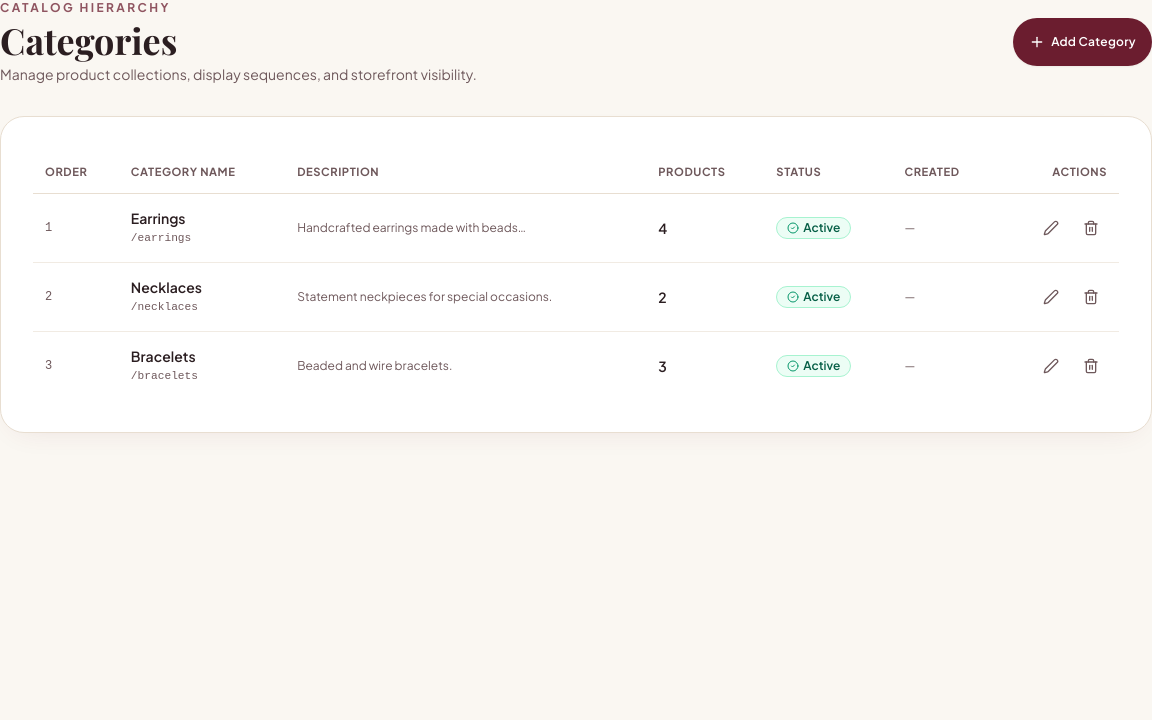
Scenario: AdminCategoriesPage › opens edit modal with prepopulated values and updates category
This screenshot has width=1152, height=720.
Expected: the text "Earrings" is shown, 131,209 -> 186,227
Click the button named "Edit Earrings".
click(1051, 228)  # box 1035,212 -> 1067,244
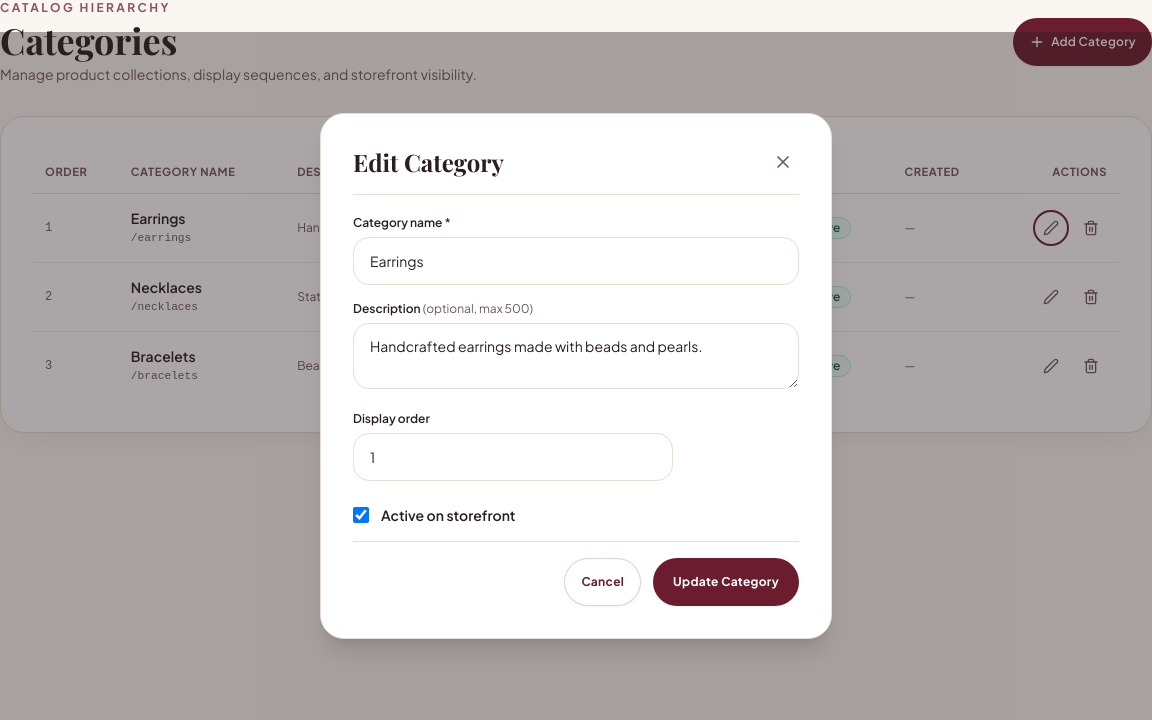
Now the dialog is shown, box 320,113 -> 832,639
Now the heading "Edit Category" is shown, box 353,146 -> 504,178
Now the field labelled "Category name *" holds "Earrings"
Replace the text in the field labelled "Category name *" with "Artisan Earrings" at [576, 261], box 353,237 -> 799,285
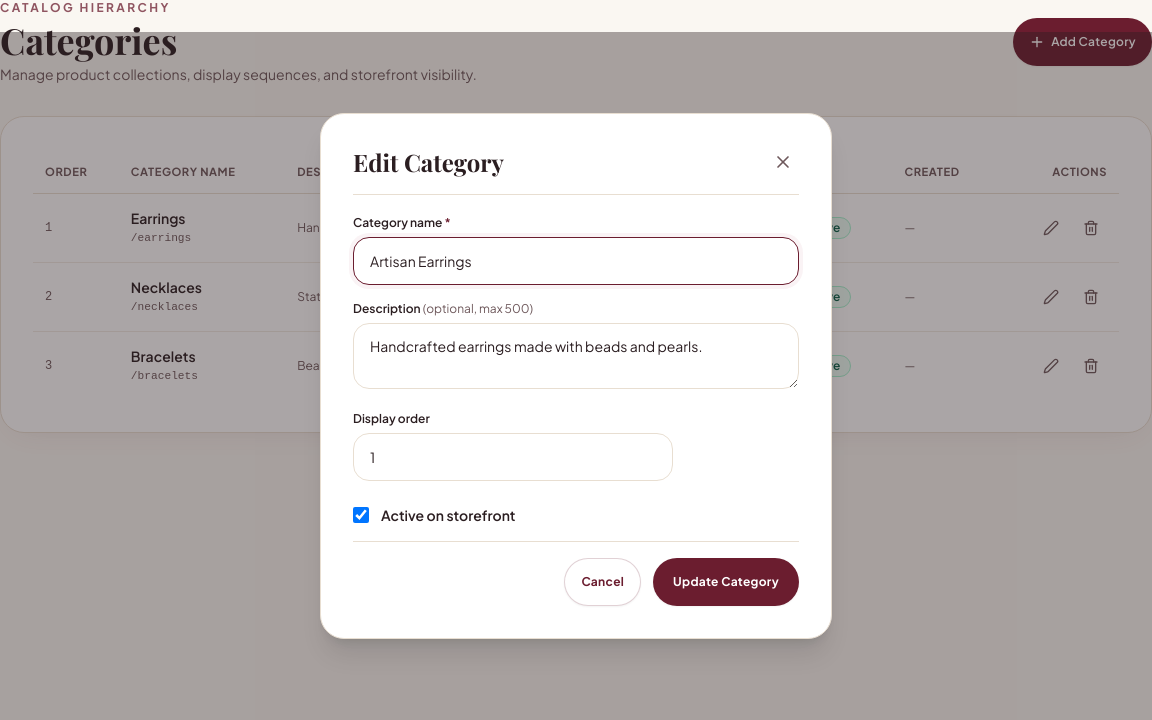
Click the button "Update Category".
click(726, 582)  # box 653,558 -> 799,606
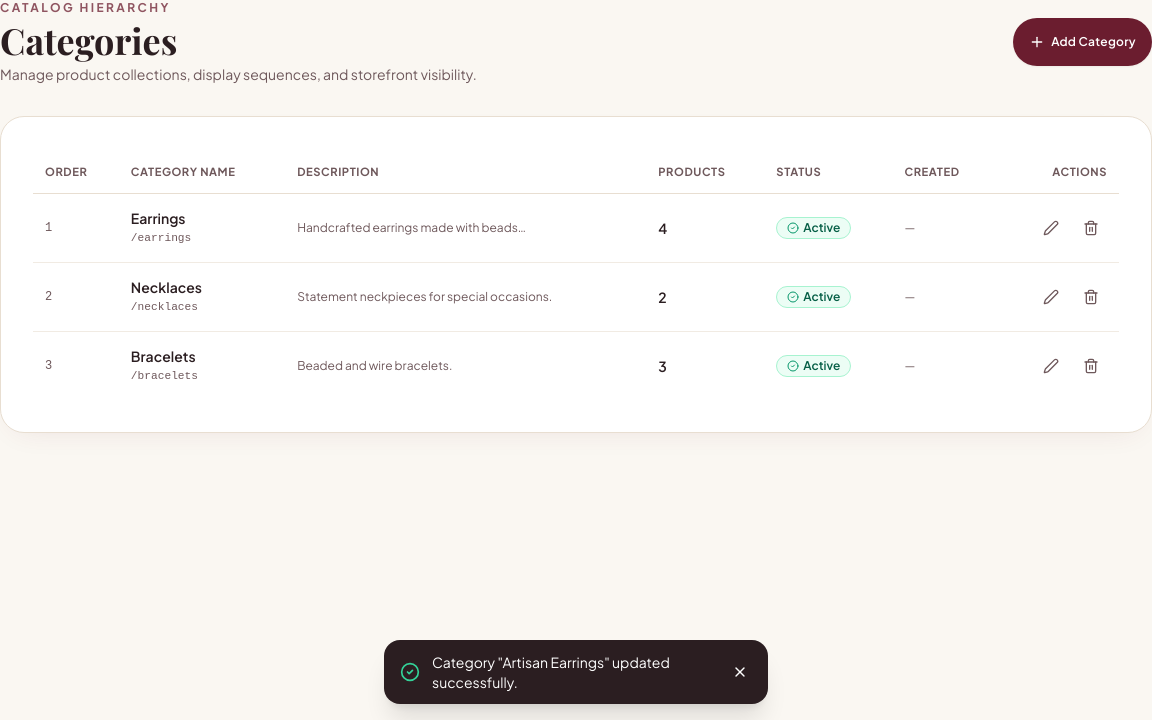
Now the dialog is gone
Now the text "Category \"Artisan Earrings\" updated successfully." is shown, box 432,653 -> 670,691
